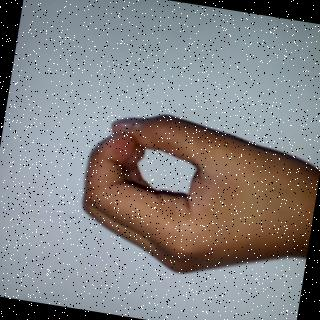O: (55, 92, 320, 297)
